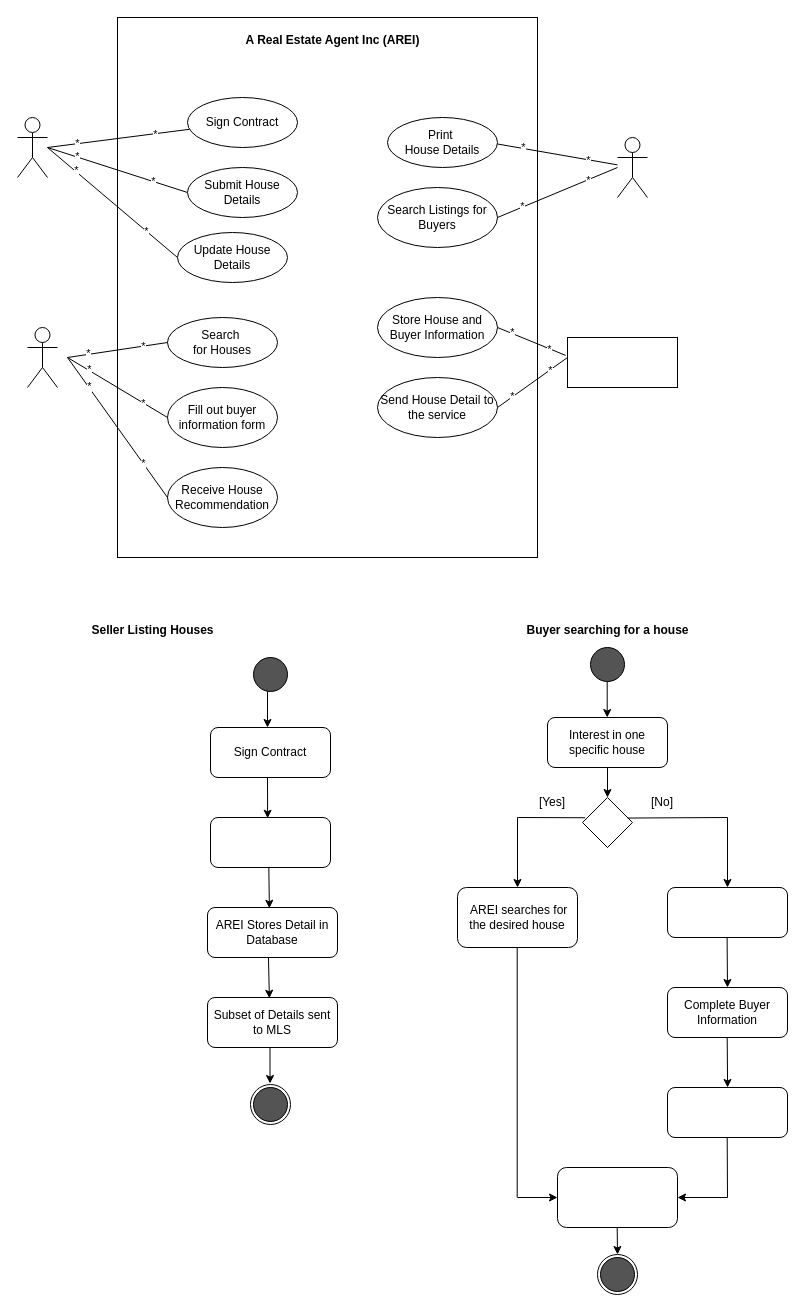
The diagram is 805 pixels wide and 1312 high, and some of its shapes have lost their labels. Each missing label, with the centre of its shape:
<<Actor>> System: pixel 622 362
AREI prints result for Buyers: pixel 617 1197
AREI uses information to find matching houses: pixel 727 1112
Buyer: pixel 42 357
Provides House Detail: pixel 270 842
Real Estate Agent: pixel 632 167
Seek AREI's Advice: pixel 727 912
Seller: pixel 32 147
